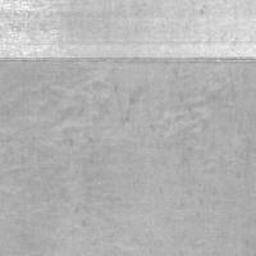Welding line: (0, 55, 256, 63)
